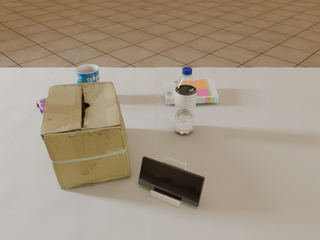book: (164, 79, 219, 104)
bottle: (174, 67, 198, 135)
box: (40, 82, 131, 190)
cup: (75, 64, 100, 84)
phone: (138, 157, 205, 207)
toy_car: (36, 97, 47, 114)
